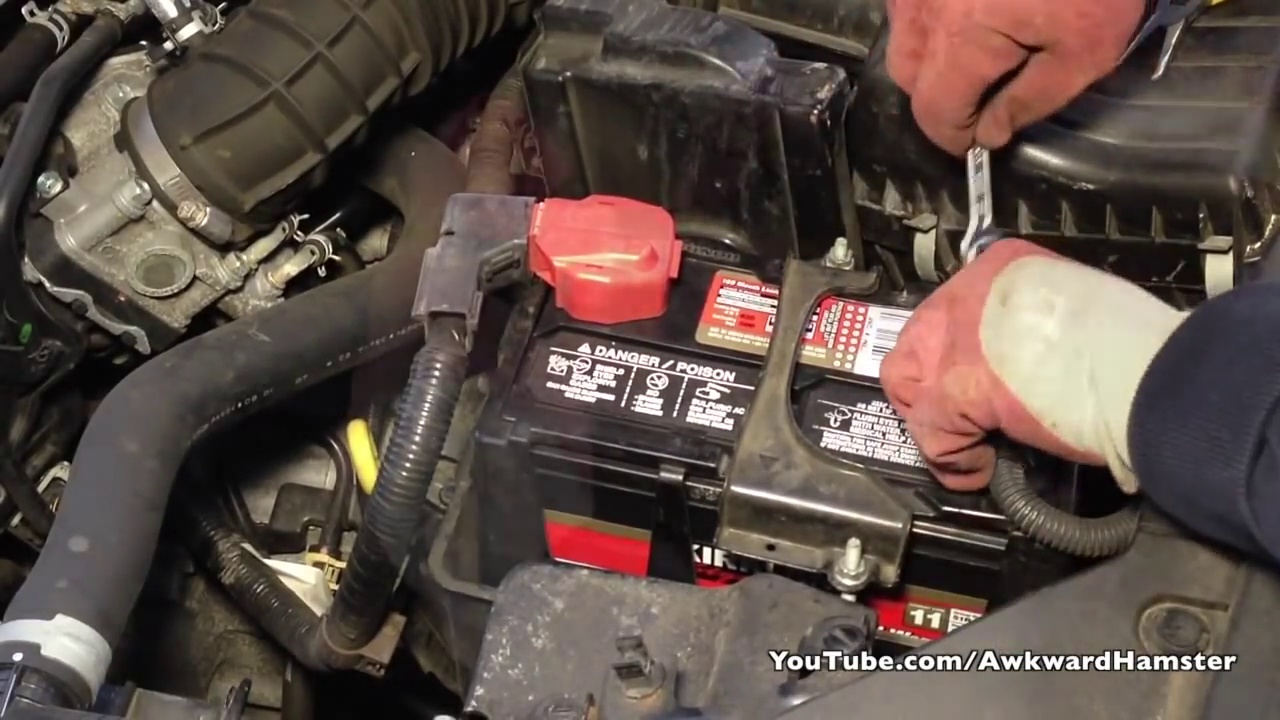battery: (473, 221, 1045, 534)
pos_connected: (436, 175, 698, 328)
